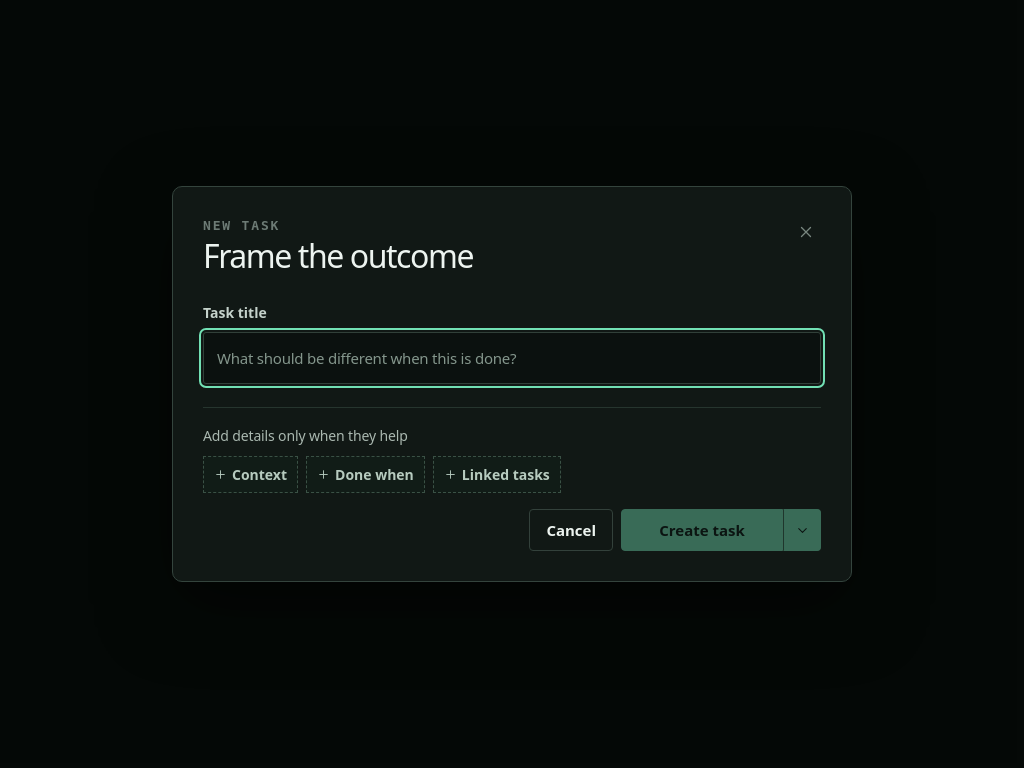
Test: TaskComposer › keeps the action controls in one shared footer when switching modes
This screenshot has width=1024, height=768.
Type "Ship graph editor" into the field with placeholder "What should be different when this is done?" at (512, 358), box [203, 332, 821, 384]
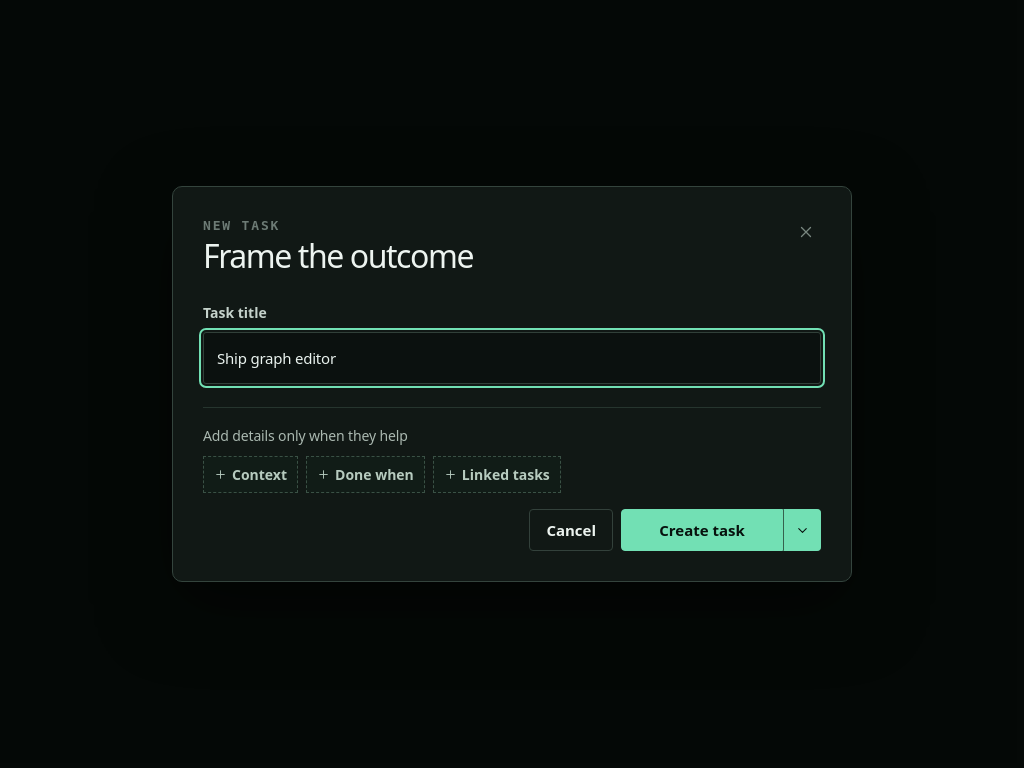
Check: the element with class "composer-create-actions" is shown, box [621, 509, 821, 551]
Check: the button with class "ghost" is shown, box [529, 509, 613, 551]
Click the button named "More create actions" at (802, 530), box [783, 509, 821, 551]
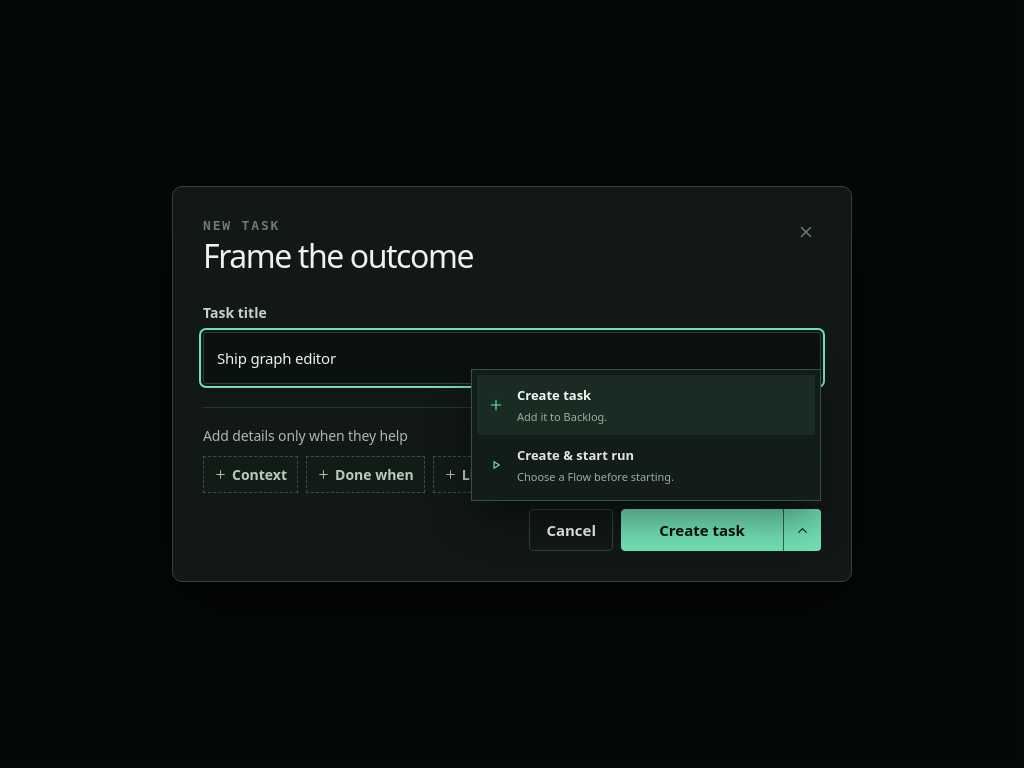
Click the menu item "Create & start run Choose a Flow before starting." at (576, 455), box [477, 435, 815, 495]
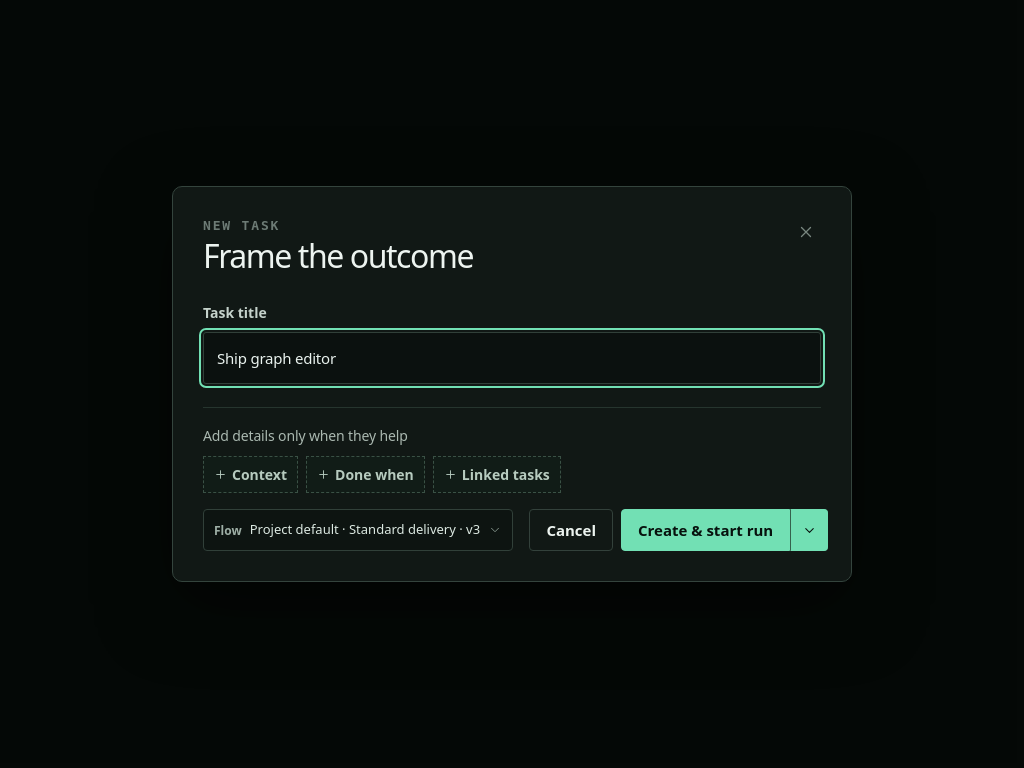
Check: the element with class "composer-flow-control" is shown, box [203, 509, 521, 551]
